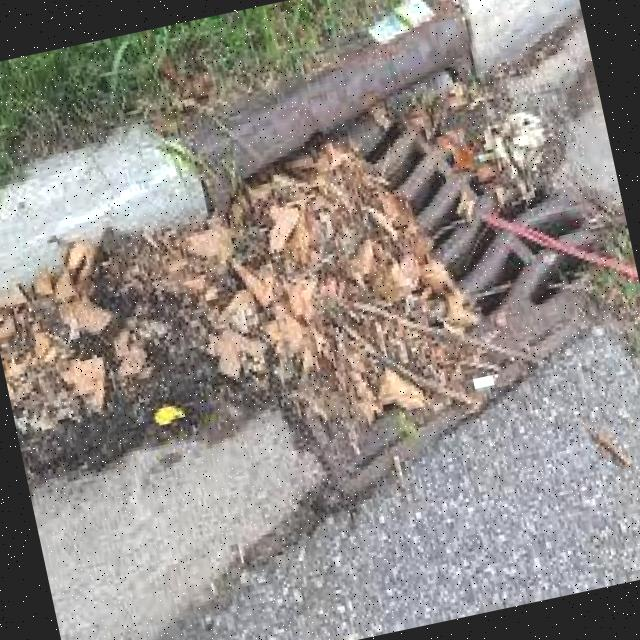curb: (1, 1, 581, 337)
